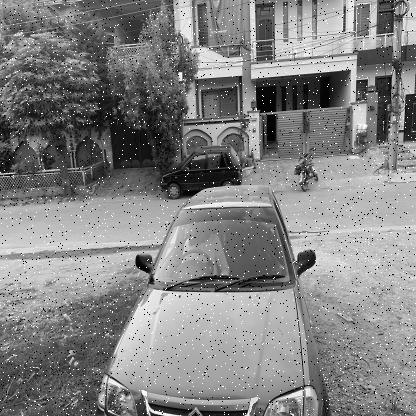no_seatbelt: (180, 221, 212, 274)
